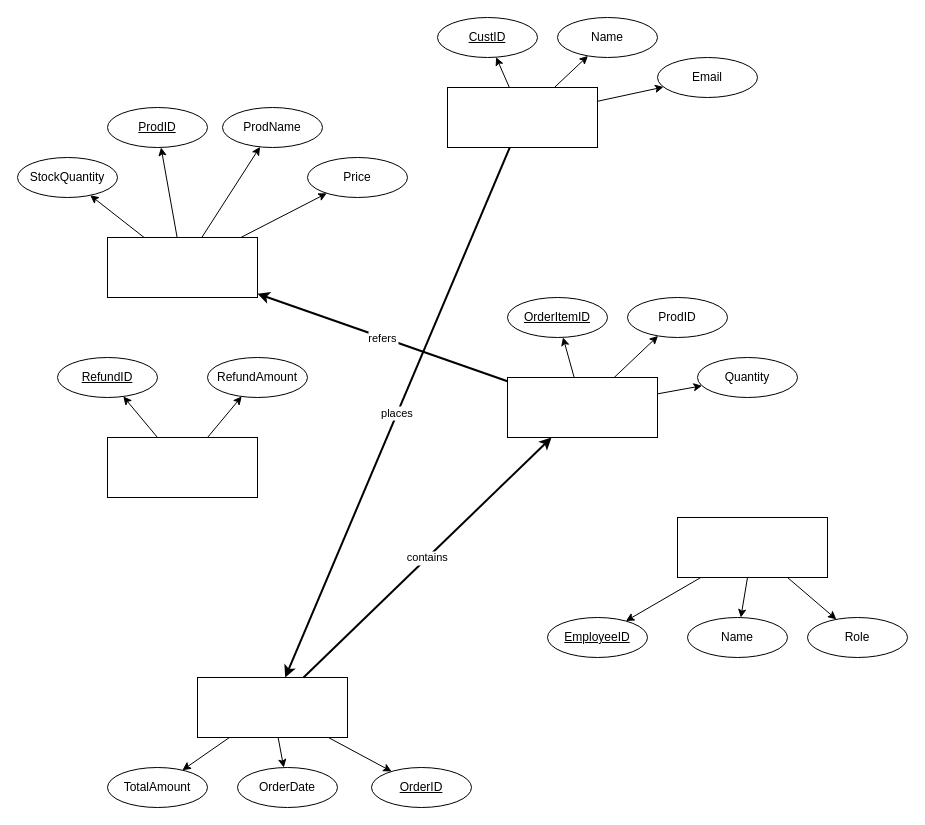
This 925x825 diagram has some shape labels left out. Each missing label, with the box of its shape:
Customer: (446, 86, 598, 148)
Employee: (676, 516, 828, 578)
Order: (196, 676, 348, 738)
OrderItem: (506, 376, 658, 438)
Product: (106, 236, 258, 298)
Refund: (106, 436, 258, 498)
